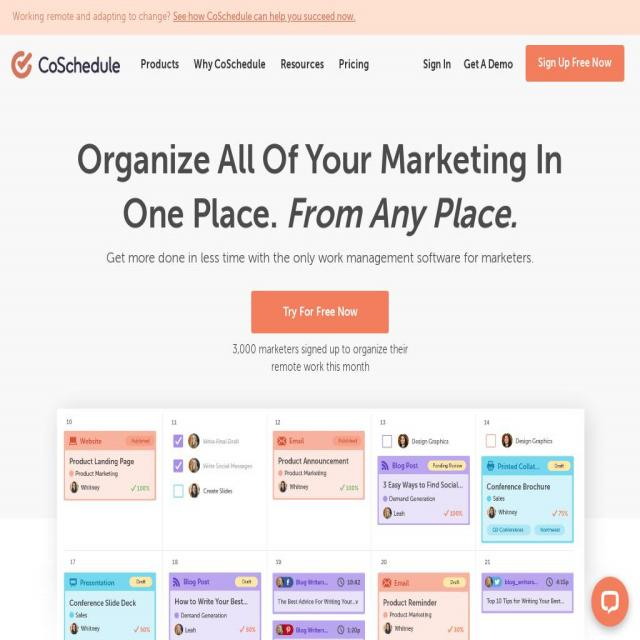login-option: (416, 46, 456, 82)
navigation-links: (135, 35, 640, 103)
sign-up-option: (524, 40, 620, 83)
